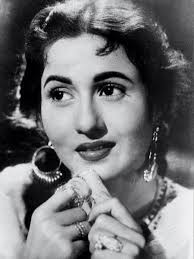indian_female: (1, 1, 168, 186)
